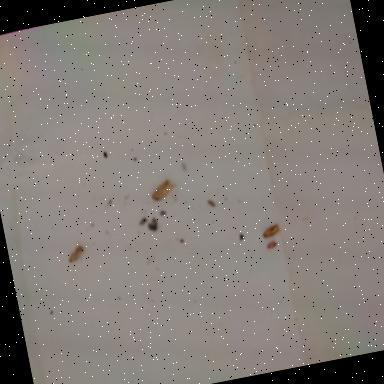pbw: (149, 178, 176, 201), (66, 245, 85, 263), (261, 224, 280, 238)
